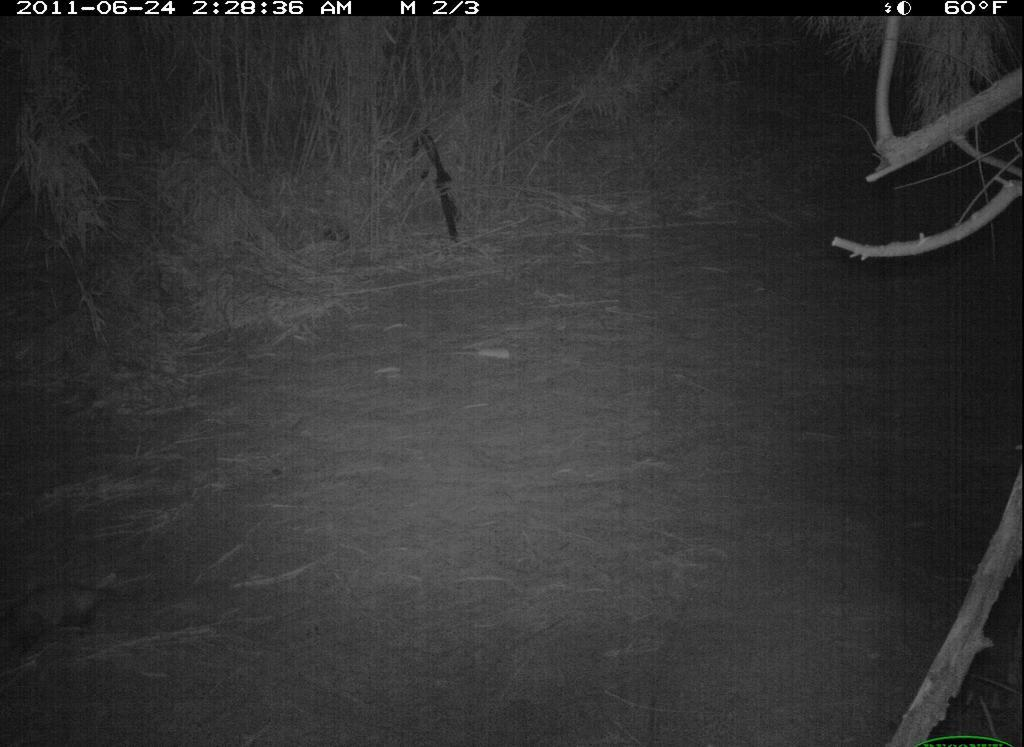opossum: (2, 574, 162, 664)
